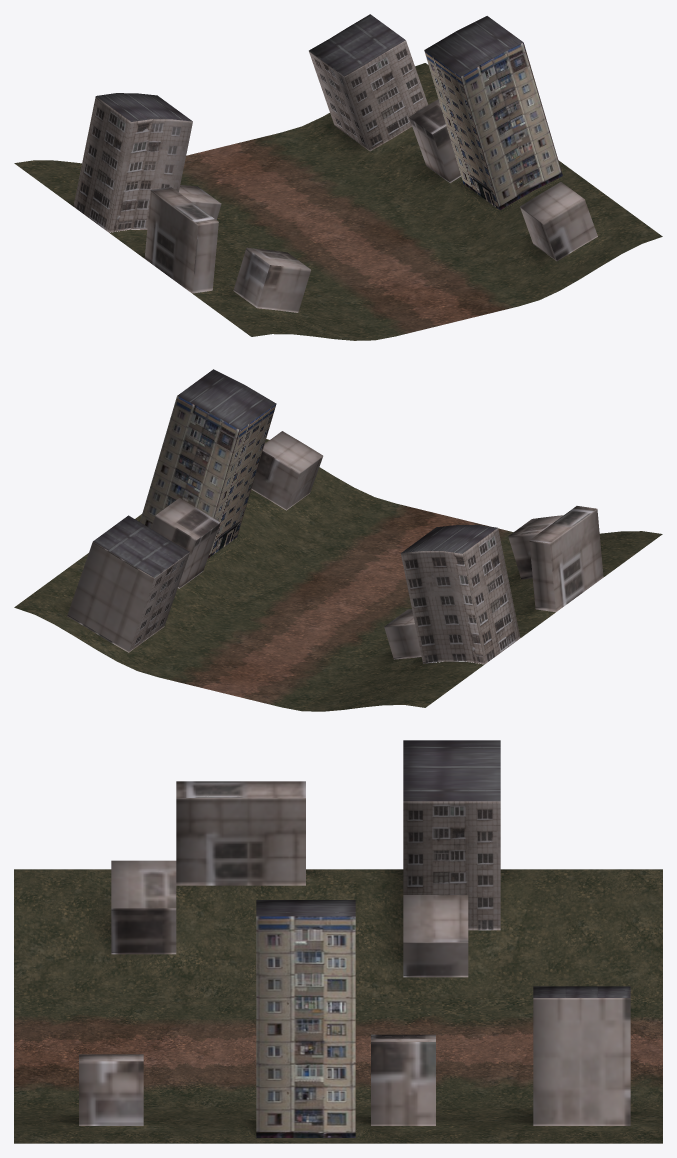
File: LocationTest1.fbx
3 renders of one model, top to bottom at view 1: azimuth 30°, elevation 25°; view 2: azimuth 150°, elevation 25°; view 3: azimuth 270°, elevation 25°, orthographic. The views are drawn at different scales.
Visible parts, largest first — view 1: Plane; view 2: Plane; view 3: Plane.
Part boxes in pixels (x1,y1,x2,y2): Plane: (14,14,662,340); Plane: (14,369,662,711); Plane: (14,740,662,1143).
Size of the model in its own units: 2000 by 819 by 2000.
